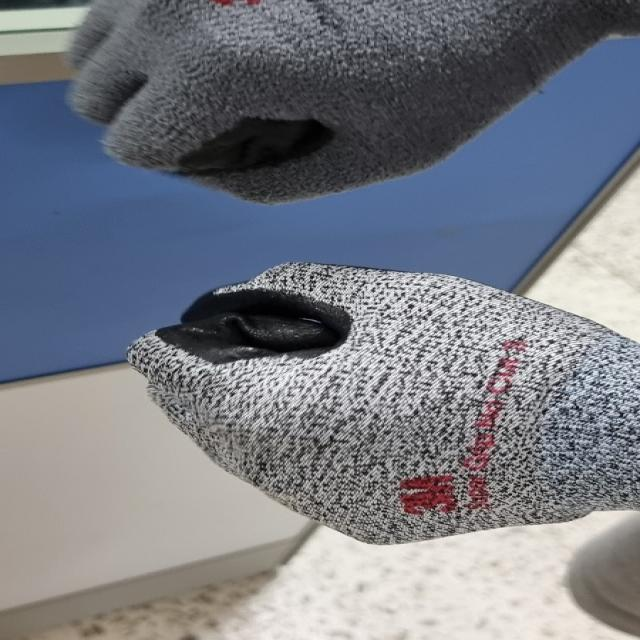Gloves: (119, 252, 640, 556), (45, 1, 640, 210)
